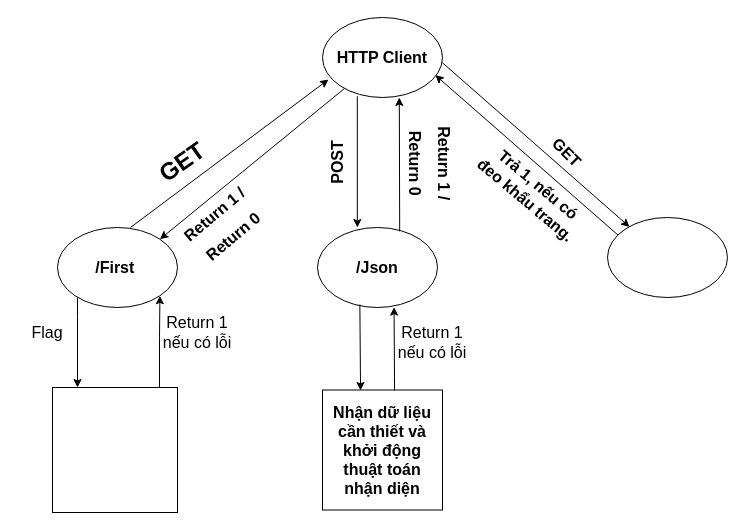
Image size: 745x530. Some labels were removed from this diagram. The centre of each missing label's shape, as x and y in pixels:
"/Result" belongs at point 667,257.
"Đưa mô hình nhận diện vào bộ nhớ để chuẩn bị" belongs at point 115,449.
